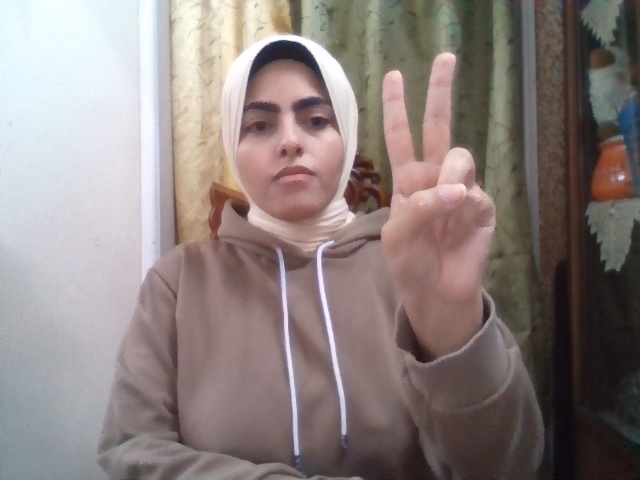V: (381, 52, 496, 313)
